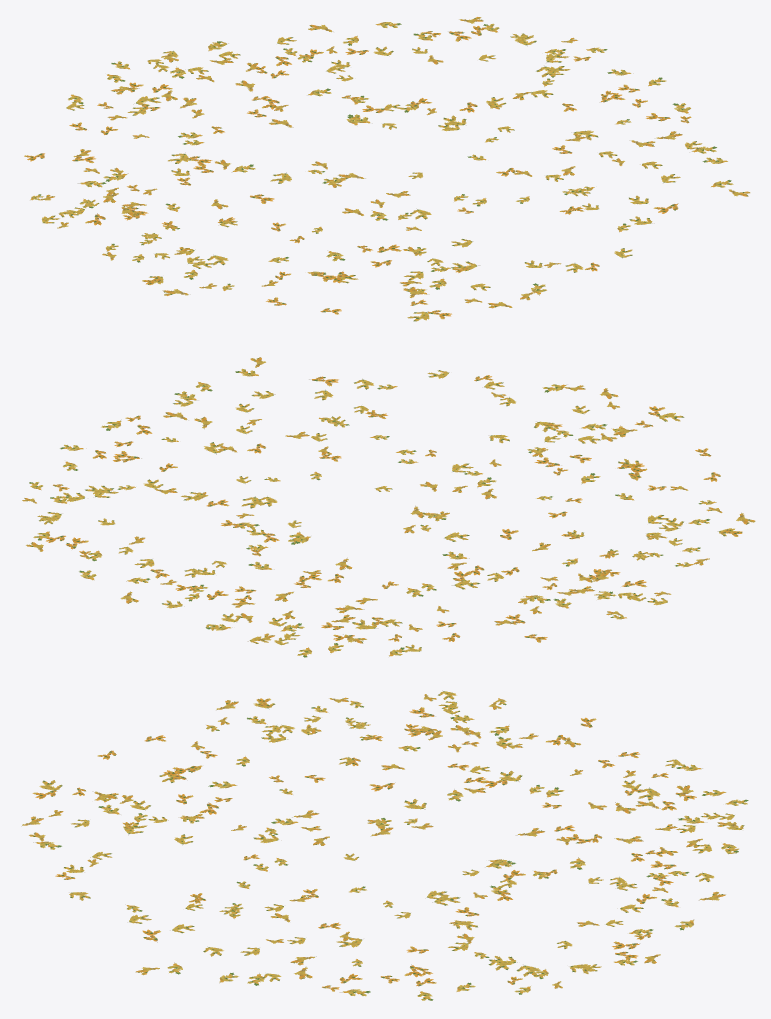
The model's file is bouleau_vieux_a.fbx.
The picture shows the model from 3 angles, top to bottom: view 1: azimuth 30°, elevation 25°; view 2: azimuth 150°, elevation 25°; view 3: azimuth 270°, elevation 25°; orthographic projection. The views are drawn at different scales.
Visible parts, largest first — view 1: bouleau_vieux_a_feuilles_sol; view 2: bouleau_vieux_a_feuilles_sol; view 3: bouleau_vieux_a_feuilles_sol.
Part boxes in pixels (bbox=[...]): bouleau_vieux_a_feuilles_sol: bbox=[24, 17, 750, 321]; bouleau_vieux_a_feuilles_sol: bbox=[22, 357, 755, 657]; bouleau_vieux_a_feuilles_sol: bbox=[21, 690, 748, 1000].
Size of what is drawn, in the model's own units: 9.61 by 0.00596 by 9.54.
